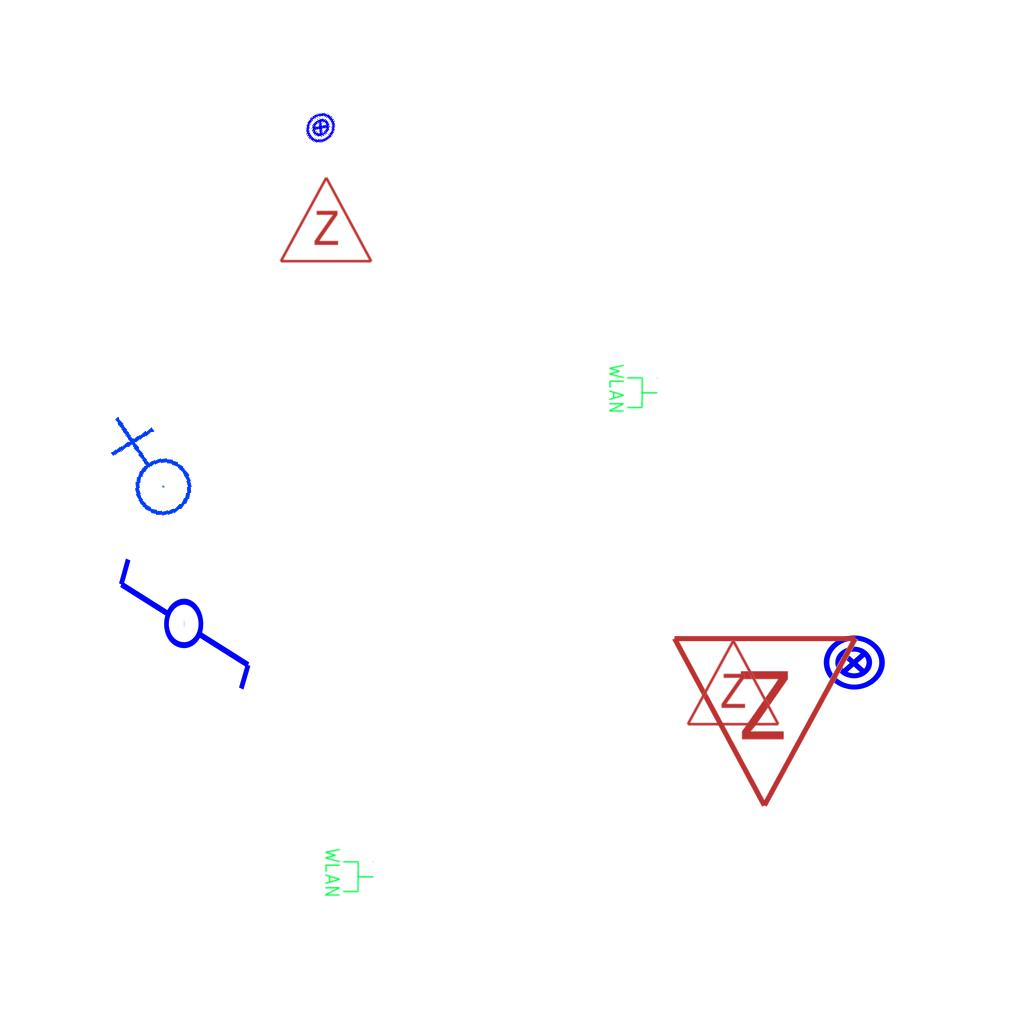Elektroanschluss_allgemein_230V_Geraeteanschlussdose_230V: (93, 415, 204, 529)
Taster_beleuchtet: (821, 630, 887, 696), (297, 104, 344, 151)
WLAN: (323, 846, 375, 898), (607, 362, 659, 414)
Wechselschalter: (114, 537, 258, 694)
Zimmersignalleuchte: (669, 621, 865, 821), (276, 170, 374, 270), (683, 633, 781, 733)
